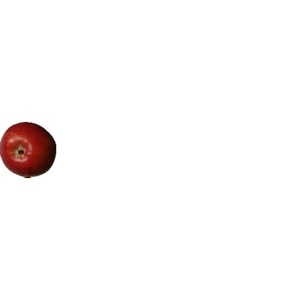maçã braeburn: (1, 118, 59, 178)
